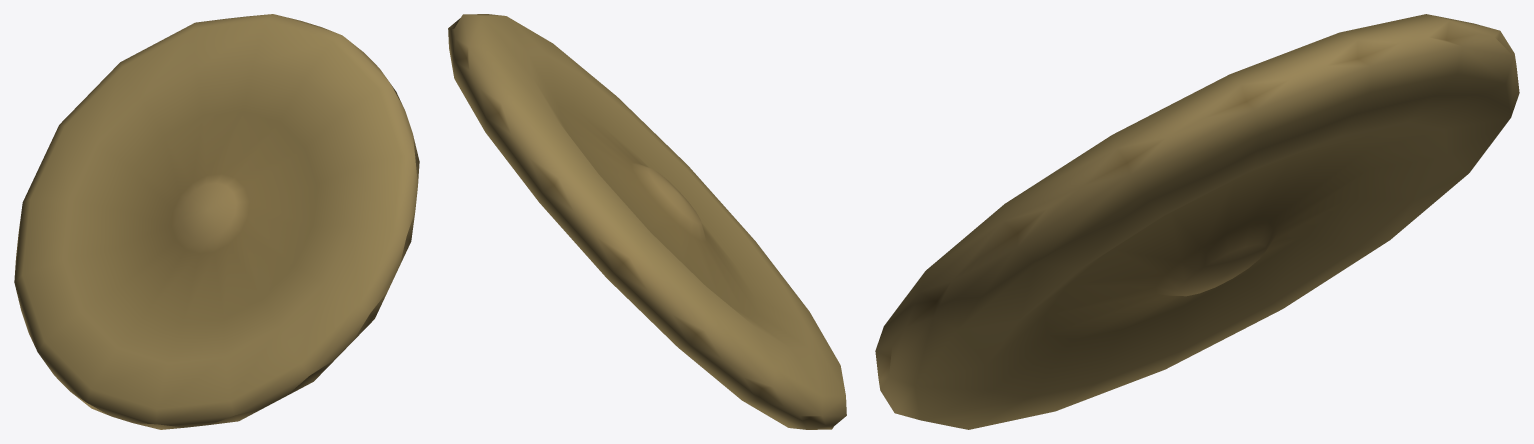
File: microscopic-plankton-disc-diatom_v1.glb
3 renders of one model, left to right at view 1: azimuth 30°, elevation 25°; view 2: azimuth 150°, elevation 25°; view 3: azimuth 270°, elevation 25°, orthographic. The views are drawn at different scales.
Parts seen in each view (by area): view 1: Disc Diatom; view 2: Disc Diatom; view 3: Disc Diatom.
Boxes of the visible parts, <box> form: Disc Diatom: <box>14,14,419,429</box>; Disc Diatom: <box>448,14,846,429</box>; Disc Diatom: <box>875,14,1519,429</box>.
Bounding box in the file's own units: 0.5 × 0.4483 × 0.4849.
